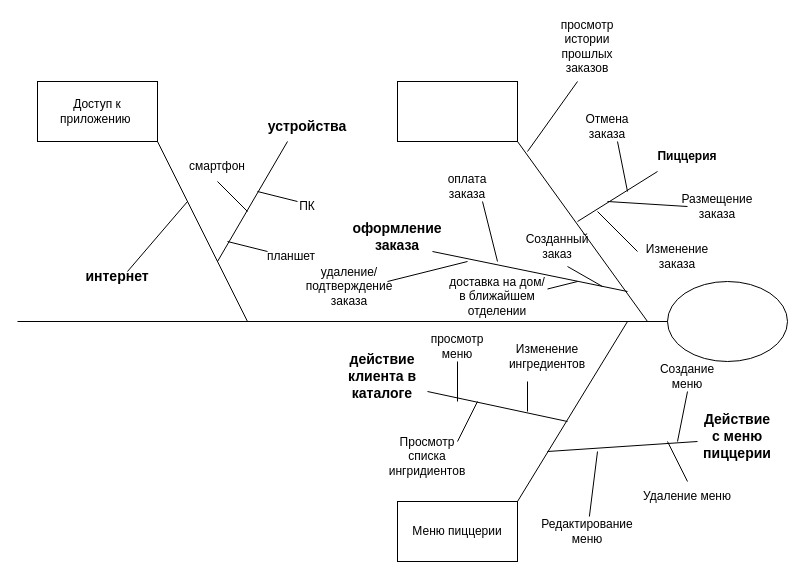
Image size: 805x579. Some labels were removed from this diagram. Here are the shapes that lost their labels. From the top down, the centre of each, then its label:
At point (457, 111): "Заказ пиццы".
At point (727, 321): "приложение".
